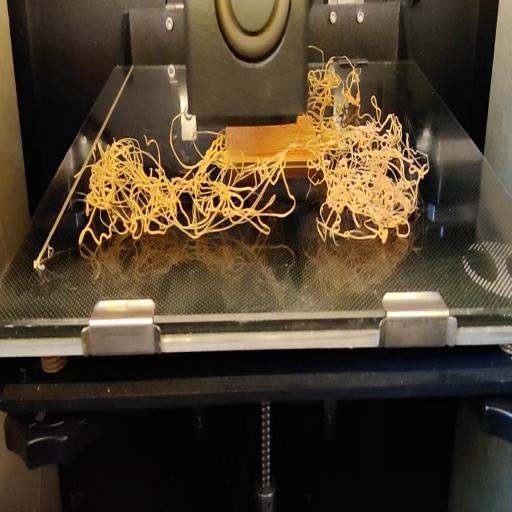spaghetti: (75, 112, 429, 252), (307, 39, 380, 110)
